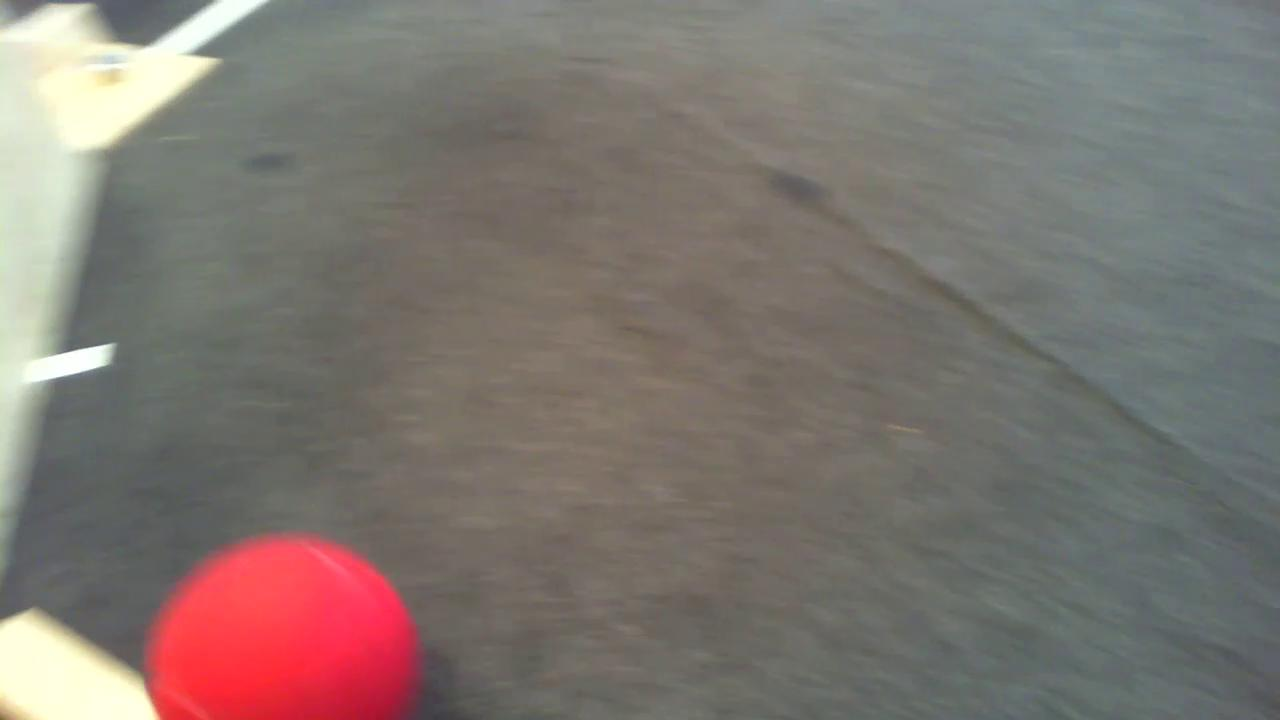Red_Ball: (118, 530, 441, 720)
